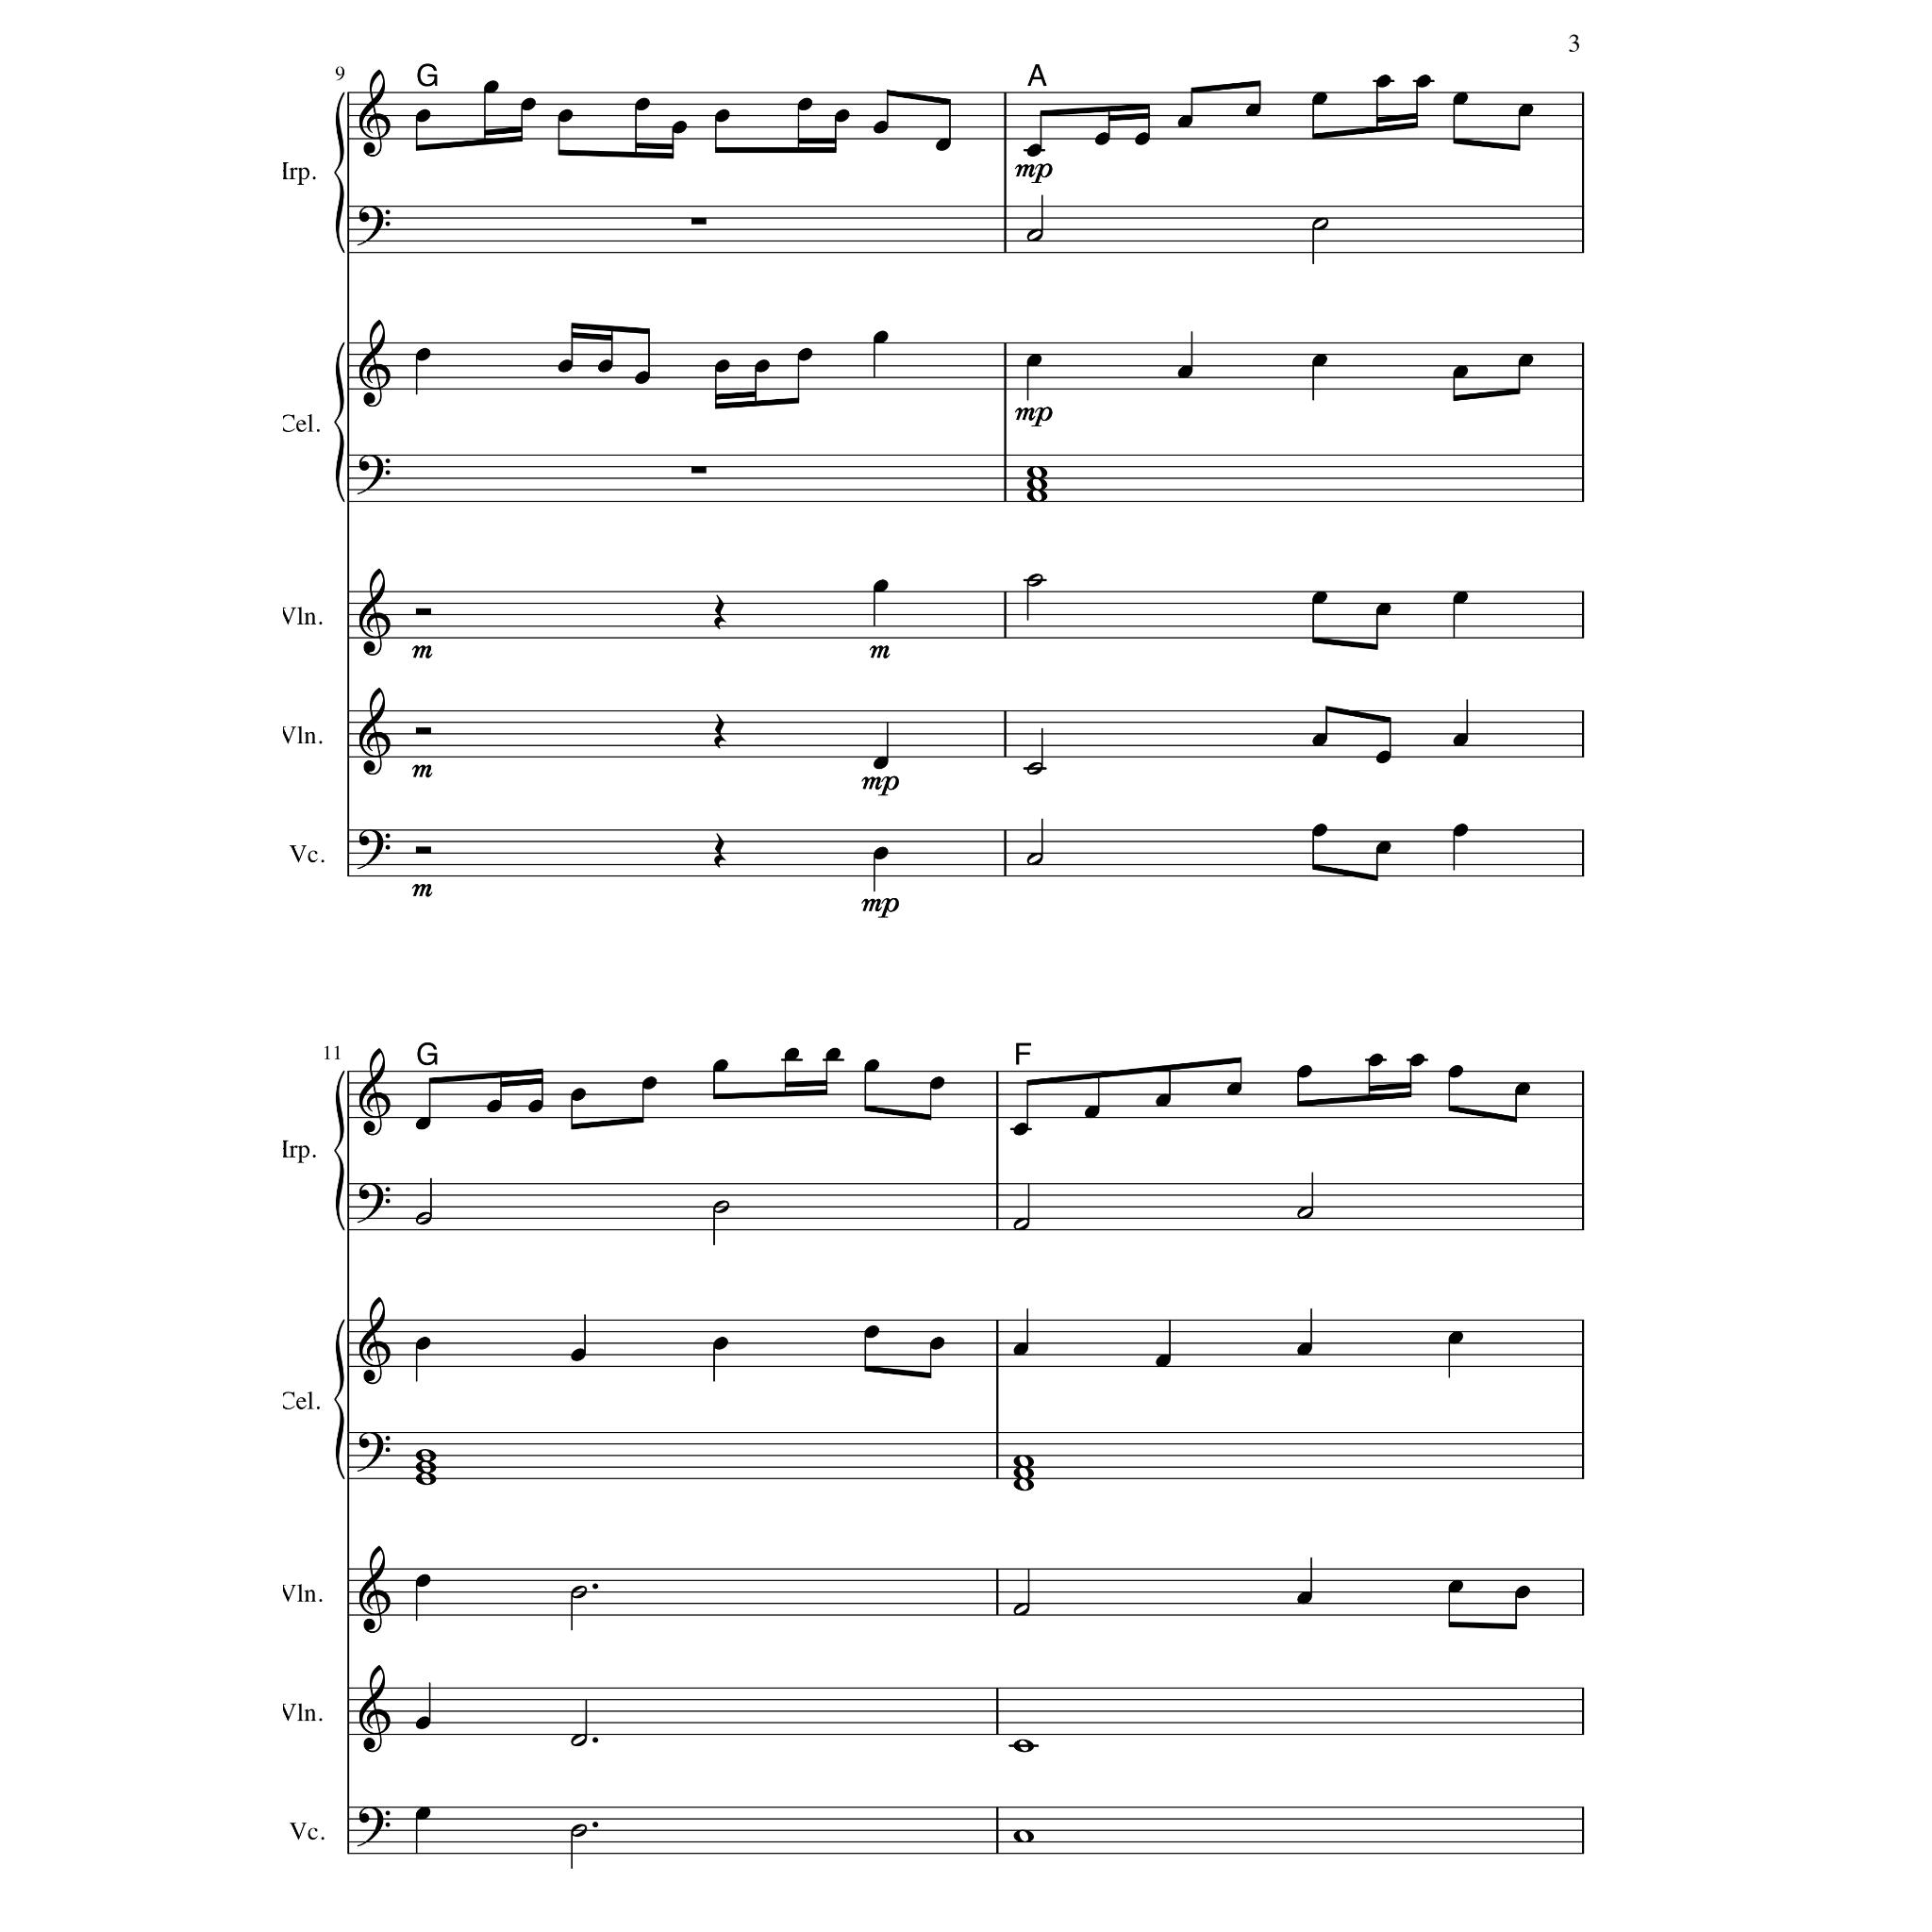brace: (333, 92, 345, 255), (333, 341, 345, 502), (333, 1320, 345, 1481), (333, 1070, 345, 1231)
fClef: (357, 830, 391, 870), (357, 455, 391, 495), (357, 1806, 391, 1847), (357, 1431, 391, 1472), (357, 1182, 391, 1223), (357, 207, 391, 246)
gClef: (359, 1047, 391, 1138), (359, 1545, 391, 1635), (359, 69, 391, 157), (359, 686, 391, 775), (359, 568, 391, 656), (359, 318, 391, 407), (359, 1665, 391, 1753), (359, 1297, 391, 1385)
noteheadBlack: (872, 120, 890, 134), (872, 579, 890, 593), (872, 331, 890, 345), (1246, 103, 1261, 117), (1134, 133, 1150, 147), (1177, 364, 1192, 379), (1177, 115, 1192, 129), (1093, 133, 1109, 147), (1518, 354, 1534, 368), (1518, 103, 1534, 117), (1415, 74, 1431, 88), (1375, 840, 1391, 855), (1375, 750, 1391, 764), (1375, 74, 1391, 88), (1453, 823, 1468, 837), (1453, 732, 1468, 747), (1453, 364, 1468, 379), (1453, 92, 1468, 106), (633, 372, 649, 386), (633, 97, 649, 111), (596, 359, 612, 373), (557, 359, 573, 373), (520, 97, 536, 111), (1026, 354, 1042, 368), (1026, 143, 1042, 157), (934, 138, 950, 152), (715, 359, 731, 373), (671, 120, 686, 134), (754, 359, 770, 373), (796, 97, 812, 111), (1155, 1353, 1171, 1368), (1226, 1081, 1242, 1095), (1012, 1122, 1028, 1136), (1514, 1585, 1530, 1599), (1514, 1081, 1530, 1095), (1368, 1053, 1384, 1067), (1447, 1580, 1463, 1594), (1447, 1330, 1463, 1345), (1408, 1053, 1424, 1067), (414, 1806, 430, 1821), (414, 1716, 430, 1730), (414, 1116, 430, 1131), (640, 1076, 656, 1090), (863, 1325, 879, 1339), (929, 1076, 945, 1090), (784, 1047, 800, 1062), (570, 1348, 586, 1362), (872, 847, 890, 860), (872, 757, 890, 770), (1313, 823, 1327, 837), (1313, 732, 1327, 747), (1313, 354, 1327, 368), (1313, 92, 1327, 106), (826, 1047, 840, 1062), (1375, 603, 1391, 616), (1453, 591, 1468, 603), (483, 81, 499, 94), (414, 349, 430, 361), (414, 110, 430, 122), (557, 110, 573, 122), (833, 110, 849, 122), (715, 110, 731, 122), (796, 349, 812, 361), (1155, 1093, 1171, 1106), (1083, 1106, 1099, 1118), (1012, 1343, 1028, 1355), (1297, 1592, 1313, 1605), (1297, 1343, 1313, 1355), (1297, 1065, 1313, 1077), (1447, 1065, 1463, 1077), (414, 1575, 430, 1587), (414, 1338, 430, 1350), (487, 1100, 502, 1113), (711, 1338, 727, 1350), (711, 1060, 727, 1072), (527, 1100, 543, 1113), (863, 1060, 879, 1072), (570, 1088, 586, 1100), (929, 1338, 945, 1350), (1313, 591, 1327, 603)
noteheadHalf: (1026, 573, 1044, 587), (570, 1585, 587, 1599), (1313, 218, 1329, 232), (1014, 1217, 1030, 1231), (416, 1212, 432, 1226), (1026, 853, 1044, 865), (1026, 763, 1044, 775), (1026, 230, 1044, 242), (570, 1824, 587, 1836), (570, 1734, 587, 1746), (1014, 1603, 1030, 1615), (1297, 1207, 1313, 1219), (713, 1201, 729, 1214)
noteheadWhole: (1012, 1739, 1035, 1753), (1012, 1454, 1035, 1468), (1012, 1465, 1035, 1479), (1012, 1477, 1035, 1491), (414, 1460, 437, 1474), (414, 1449, 437, 1463), (414, 1472, 437, 1486), (1026, 465, 1047, 479), (1026, 478, 1047, 492), (1026, 488, 1047, 502), (1012, 1829, 1035, 1842)
restHalf: (416, 846, 432, 855), (416, 607, 432, 616), (416, 727, 432, 734)
restQuarter: (713, 594, 725, 630), (713, 833, 725, 869), (713, 713, 725, 748)
restWhole: (690, 467, 706, 474), (690, 218, 706, 225)
